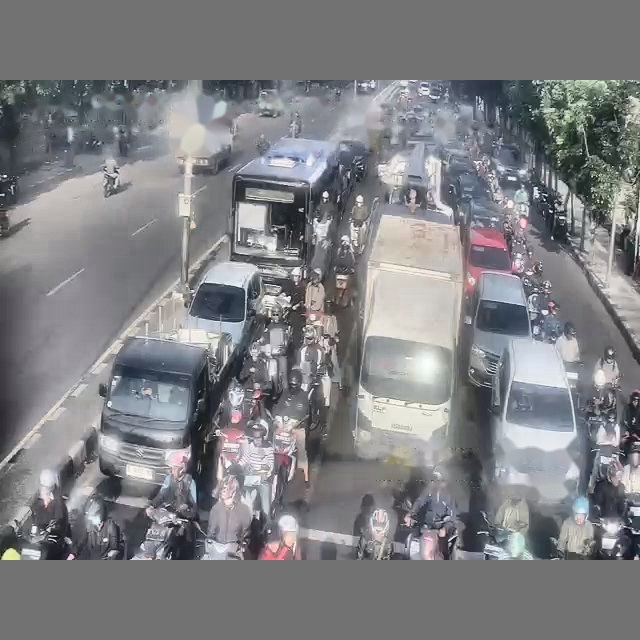Mobil: (98, 332, 229, 485), (182, 261, 263, 357), (464, 227, 511, 296), (491, 144, 527, 188), (339, 139, 368, 181), (445, 150, 475, 178), (257, 89, 284, 116), (428, 83, 443, 102), (356, 80, 376, 93), (417, 81, 430, 98)
Motor: (272, 416, 305, 512), (134, 507, 192, 559), (16, 522, 70, 559), (334, 269, 353, 307), (103, 172, 116, 197)
Truk: (353, 205, 463, 466)
